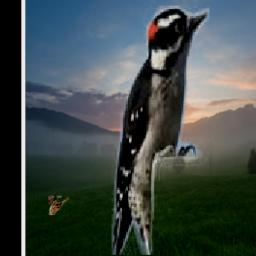Sparrow: (48, 197, 70, 216)
Woodpecker: (111, 7, 208, 256)
